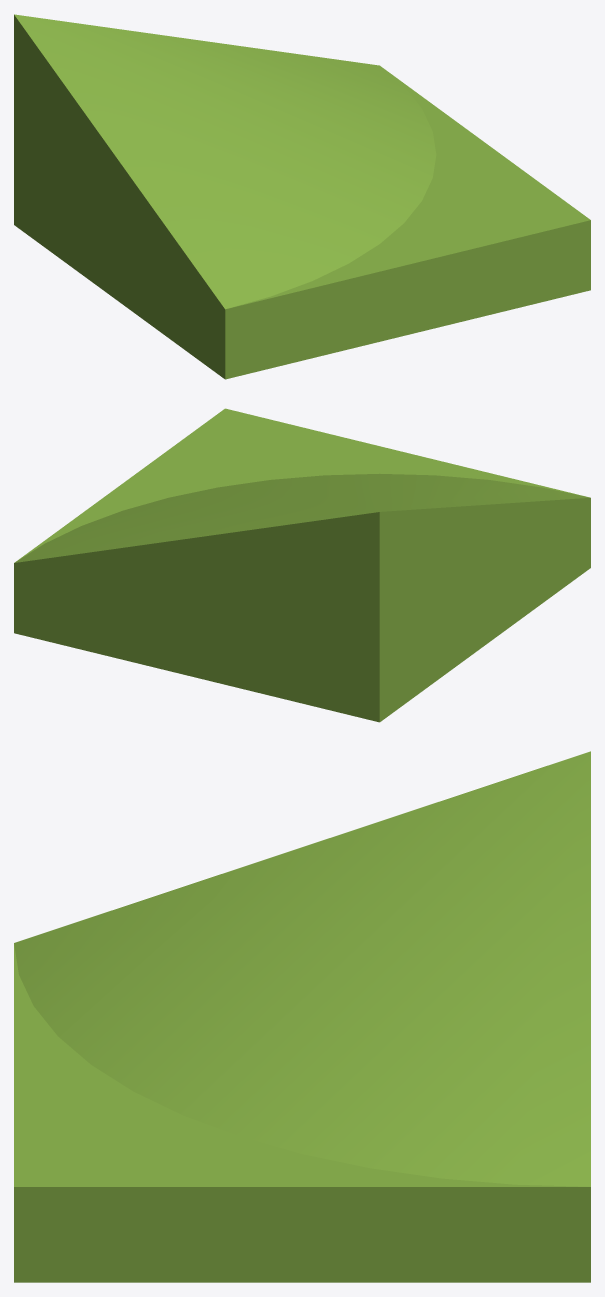
Rendered from tile279.dae.
3 views of the same model, one above another, from view 1: azimuth 30°, elevation 25°; view 2: azimuth 150°, elevation 25°; view 3: azimuth 270°, elevation 25° (orthographic). The views are drawn at different scales.
Parts seen in each view (by area): view 1: tile279; view 2: tile279; view 3: tile279.
Part boxes in pixels (bbox=[...]): tile279: bbox=[14, 14, 590, 379]; tile279: bbox=[14, 408, 590, 722]; tile279: bbox=[14, 751, 590, 1282].
Bounding box in the file's own units: 1 × 0.55 × 1.
